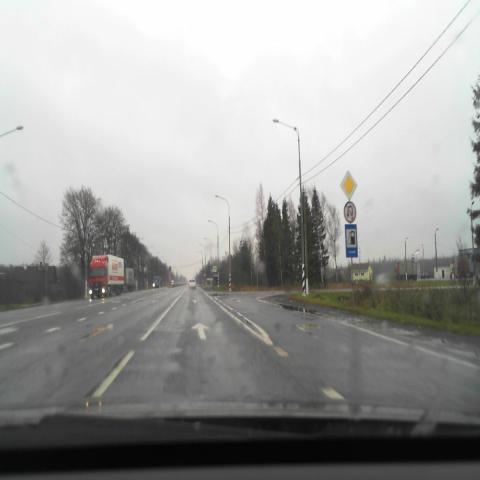3_19: (344, 201, 356, 223)
